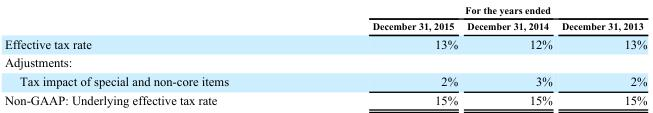table: (3, 3, 646, 107)
table column: (3, 3, 299, 107), (299, 3, 461, 107), (461, 3, 556, 107), (556, 3, 646, 107)
table column header: (3, 3, 646, 33)
table projected row header: (3, 52, 646, 71)
table row: (3, 33, 646, 52), (3, 52, 646, 71), (3, 71, 646, 90), (3, 90, 646, 107), (3, 17, 646, 33), (3, 3, 646, 17)
table spanning cell: (299, 3, 646, 17)
